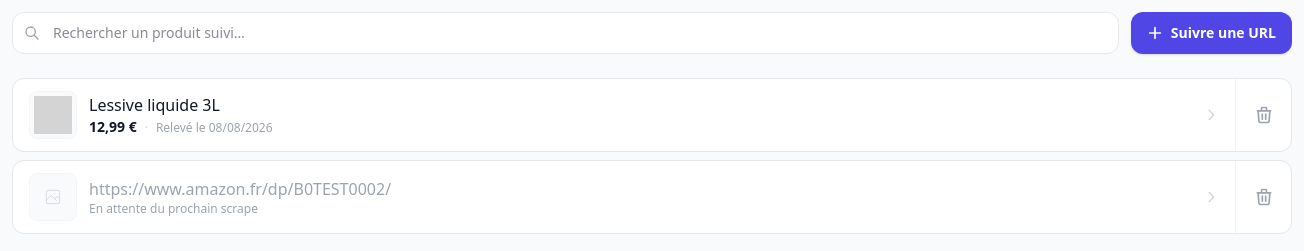
Test: TrackedUrlDashboard › cherche dans le titre comme dans l’URL
Type "B0TEST0002" into the search field at point(565, 33), box [12,12,1119,54]
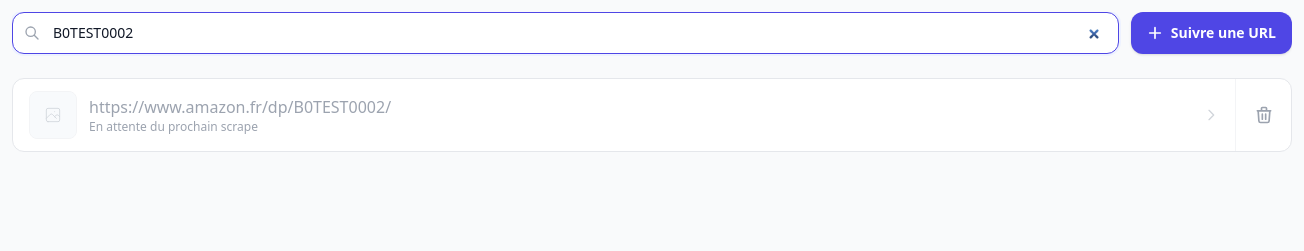
Expected: the text "https://www.amazon.fr/dp/B0TEST0002/" is shown, [89,96,391,118]
Expected: the link "Lessive liquide 3L" is gone
